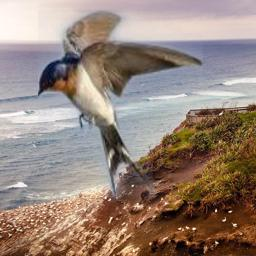Swallow: (38, 10, 203, 202)
